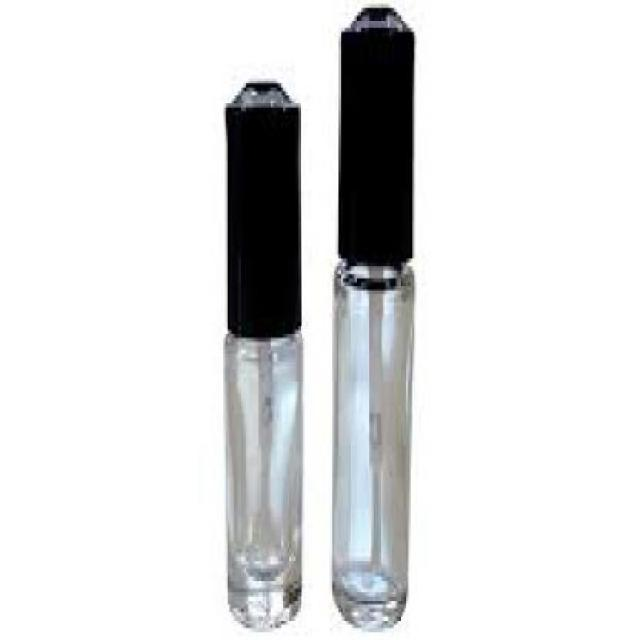kaca: (332, 254, 412, 620), (222, 326, 300, 625)
